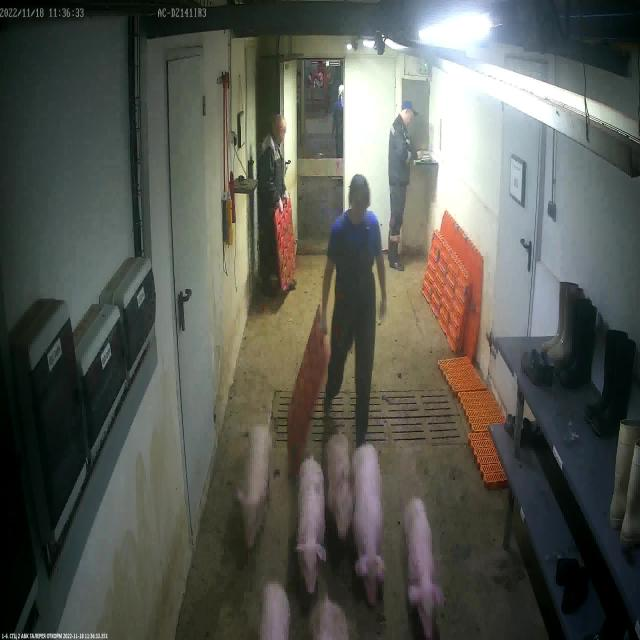pig: (403, 500, 444, 640), (354, 445, 386, 605), (240, 426, 272, 556), (298, 460, 326, 595), (328, 434, 354, 543), (312, 583, 349, 640), (261, 582, 289, 640)
